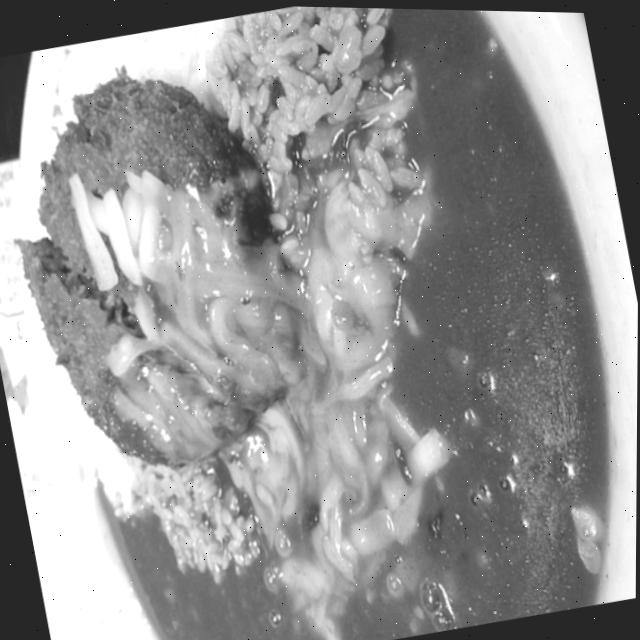炸货点心: (0, 53, 316, 490)
